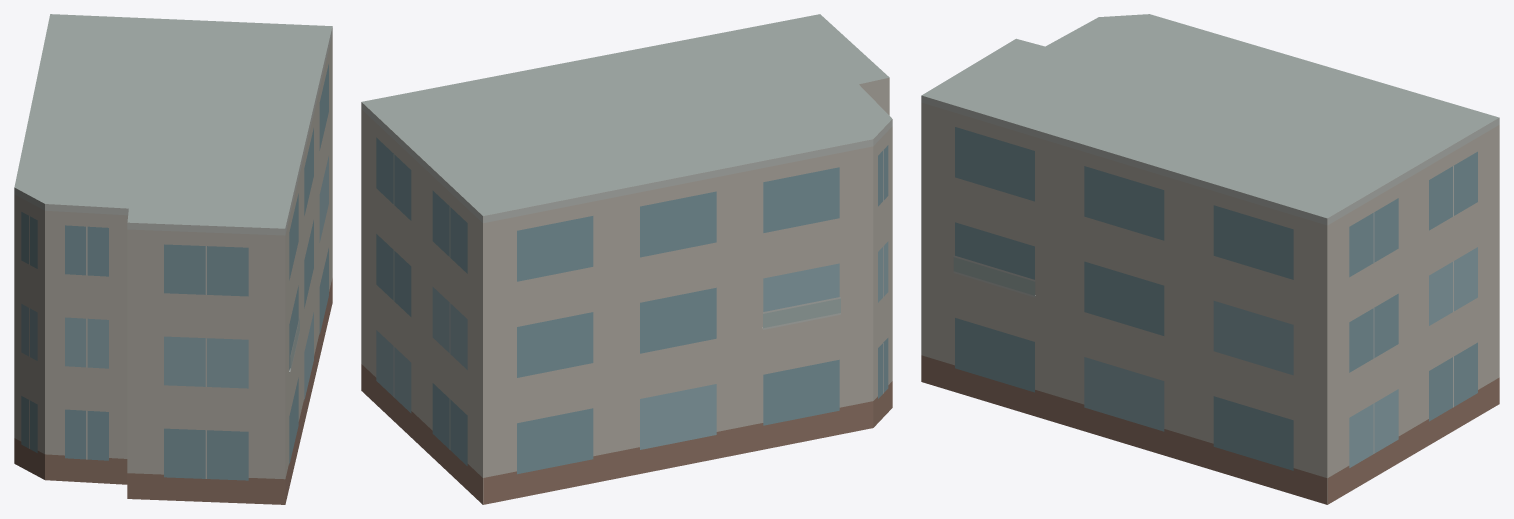
The model's file is survey-upis-32939973.glb.
The picture shows the model from 3 angles, left to right: view 1: azimuth 30°, elevation 25°; view 2: azimuth 150°, elevation 25°; view 3: azimuth 270°, elevation 25°; orthographic projection. The views are drawn at different scales.
Parts seen in each view (by area): view 1: survey-upis-32939973.tmp; view 2: survey-upis-32939973.tmp; view 3: survey-upis-32939973.tmp.
Part boxes in pixels (x1,y1,x2,y2): survey-upis-32939973.tmp: (14, 14, 332, 504); survey-upis-32939973.tmp: (361, 14, 892, 504); survey-upis-32939973.tmp: (921, 14, 1499, 504).
Bounding box in the file's own units: 15.16 × 9.9 × 18.12.
